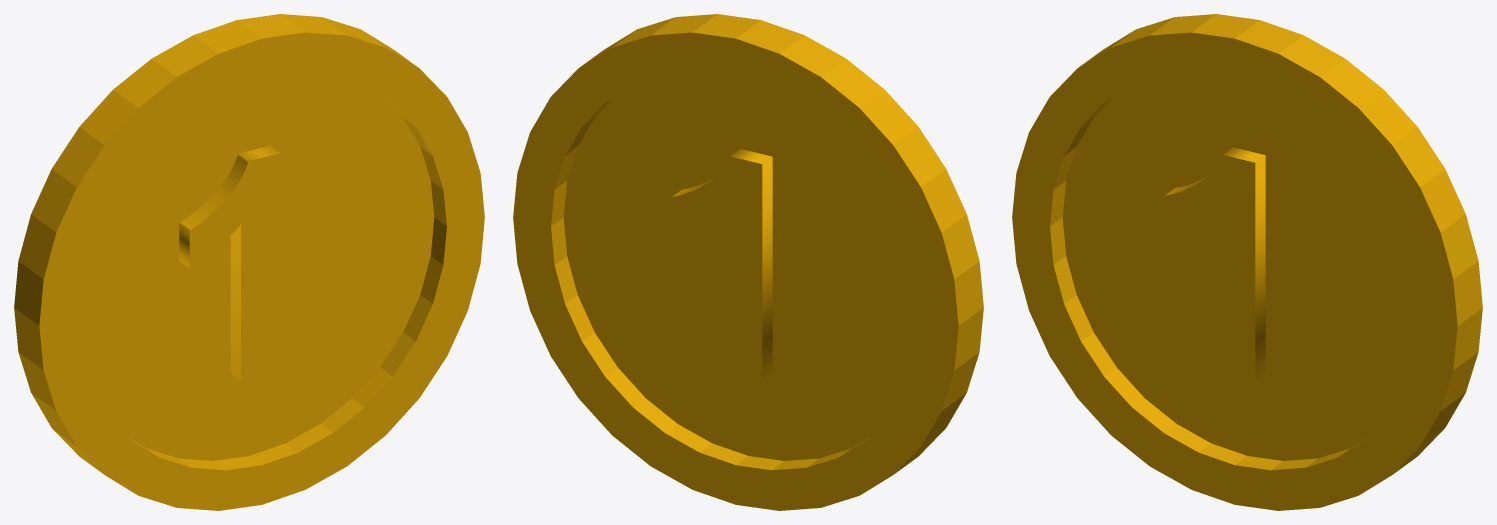
File: coin.gltf
3 renders of one model, left to right at view 1: azimuth 30°, elevation 25°; view 2: azimuth 150°, elevation 25°; view 3: azimuth 330°, elevation 25°, orthographic.
Visible parts, largest first — view 1: 円柱, テキスト.001; view 2: 円柱, テキスト; view 3: 円柱, テキスト.001.
Part boxes in pixels (left/top/right/bottom): 円柱: left=14, top=14, right=484, bottom=510; テキスト.001: left=179, top=145, right=280, bottom=381; 円柱: left=513, top=14, right=983, bottom=510; テキスト: left=671, top=149, right=772, bottom=382; 円柱: left=1012, top=14, right=1482, bottom=510; テキスト.001: left=1164, top=147, right=1265, bottom=381.
Bounding box in the file's own units: 2 × 2 × 0.1966.
